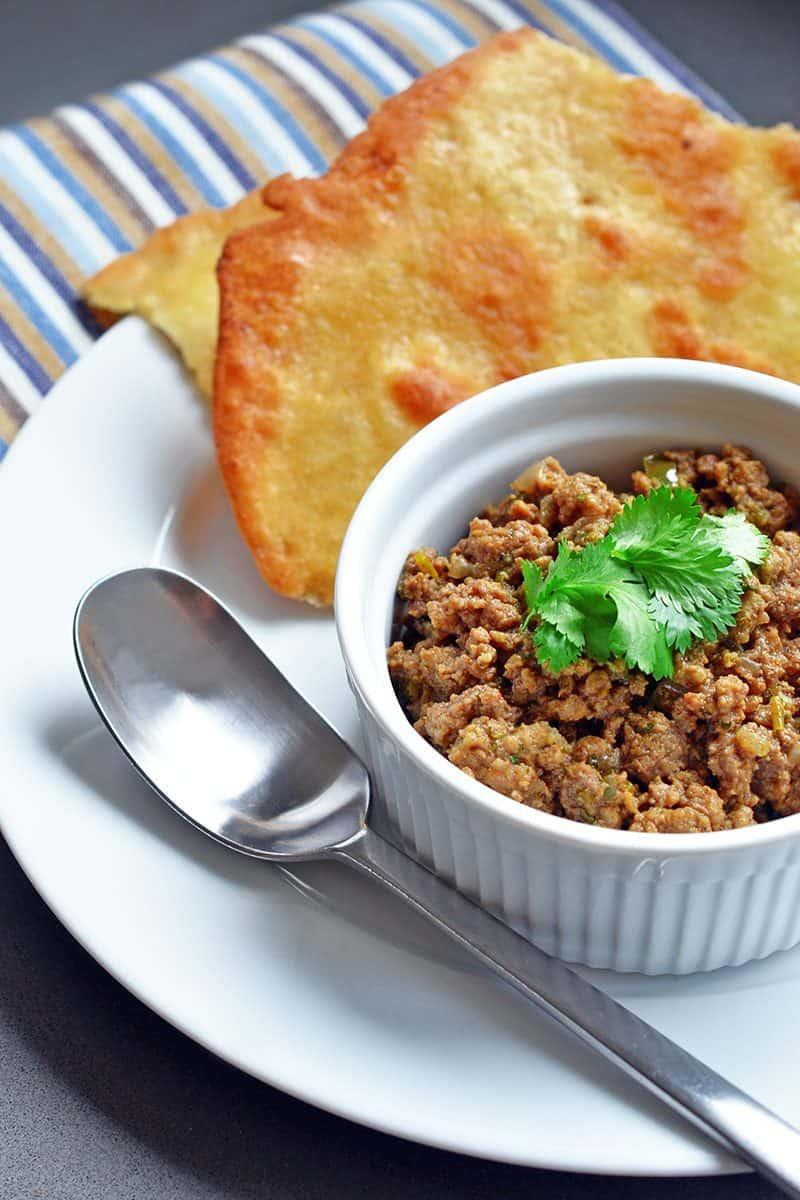chapati: (213, 28, 799, 605)
